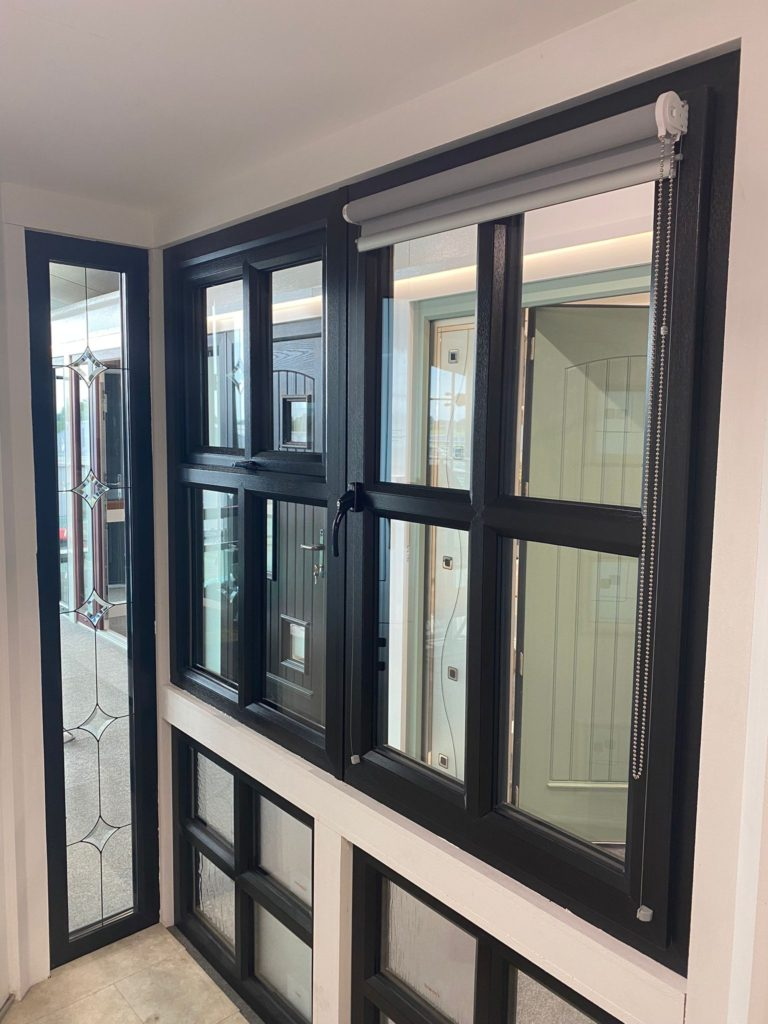Window: (361, 207, 684, 761), (38, 254, 146, 924), (191, 272, 330, 713), (168, 742, 311, 988), (345, 862, 506, 1024)
